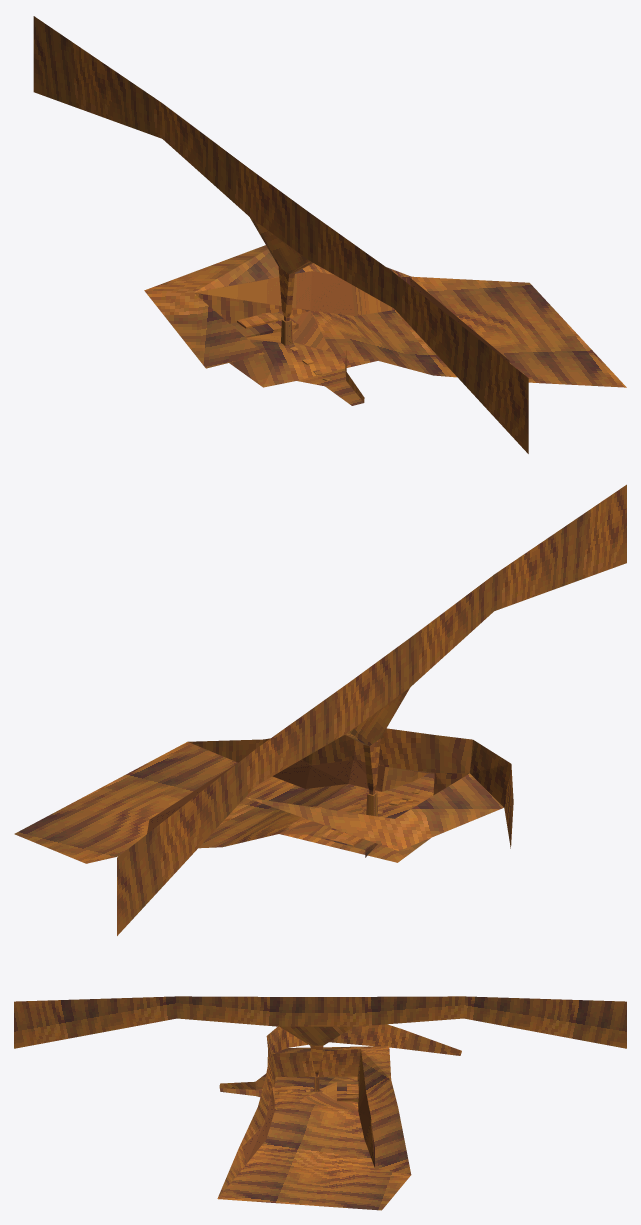
The model's file is test_room.glb.
3 renders of one model, top to bottom at view 1: azimuth 30°, elevation 25°; view 2: azimuth 150°, elevation 25°; view 3: azimuth 270°, elevation 25°, orthographic. The views are drawn at different scales.
Visible parts, largest first — view 1: test_room, col; view 2: test_room, col; view 3: test_room, col.
Part boxes in pixels (x1=…): test_room: x1=33, y1=16, x2=626, y2=453; col: x1=194, y1=271, x2=509, y2=362; test_room: x1=14, y1=484, x2=626, y2=935; col: x1=147, y1=760, x2=385, y2=834; test_room: x1=14, y1=996, x2=626, y2=1210; col: x1=242, y1=1051, x2=374, y2=1167.
Bounding box in the file's own units: 122 × 52.75 × 231.
Materials: 1 (1 with a texture image).
